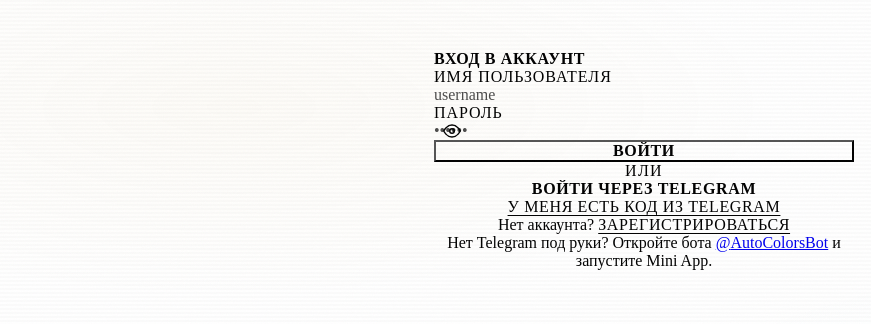
Scenario: AuthForm › shows error when register without consent
// Switch to register mode by clicking the link
Click the button "Зарегистрироваться".
click(694, 225)  # box [598,216,790,234]
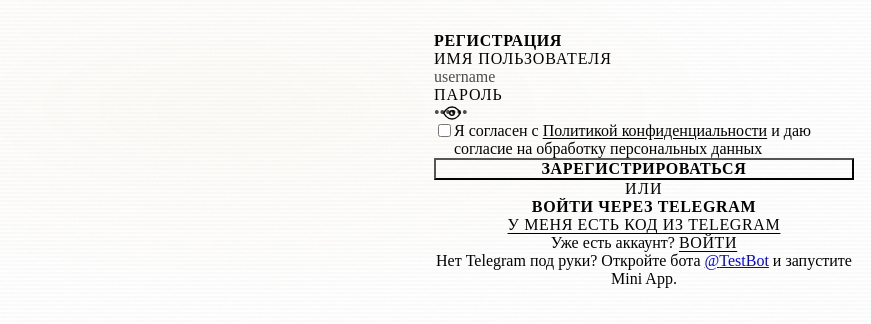
Expected: the checkbox is shown, [438,124,451,137]
// Fill in username and password
Type "newuser" into the field with placeholder "username".
click(644, 77); type("newuser")  # box [434,68,854,86]
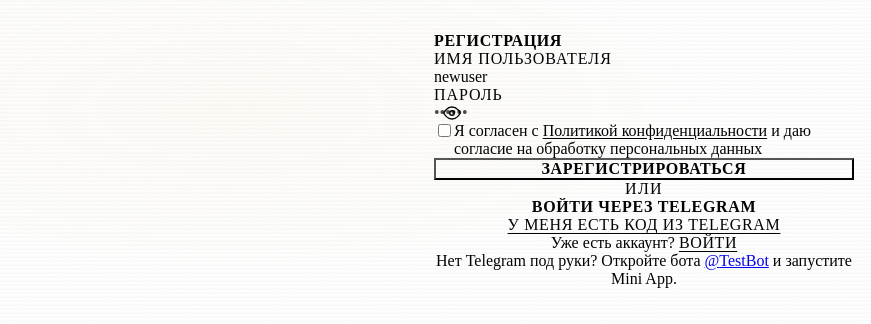
Type "password123" into the password field with placeholder "••••••".
click(644, 113); type("password123")  # box [434,104,854,122]
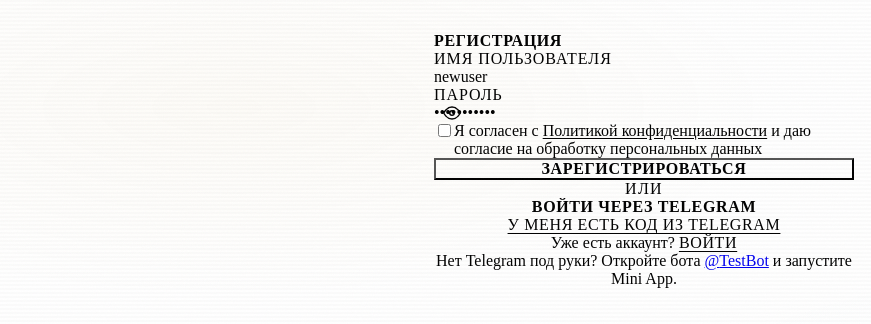
// Click the register button (now visible)
Click the button "Зарегистрироваться".
click(644, 169)  # box [434,158,854,180]
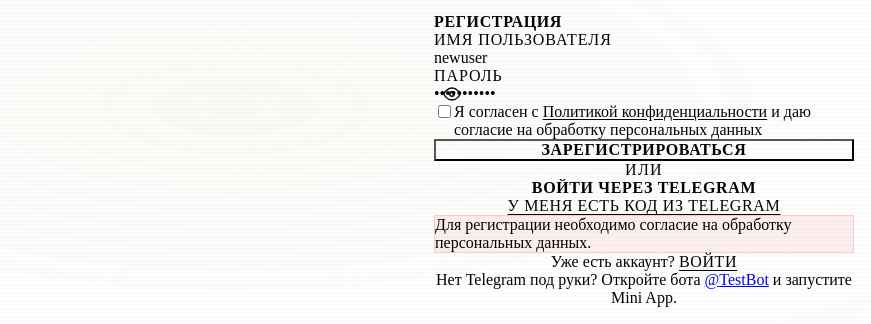
Expected: the text "Для регистрации необходимо" is shown, [435,216,792,251]
